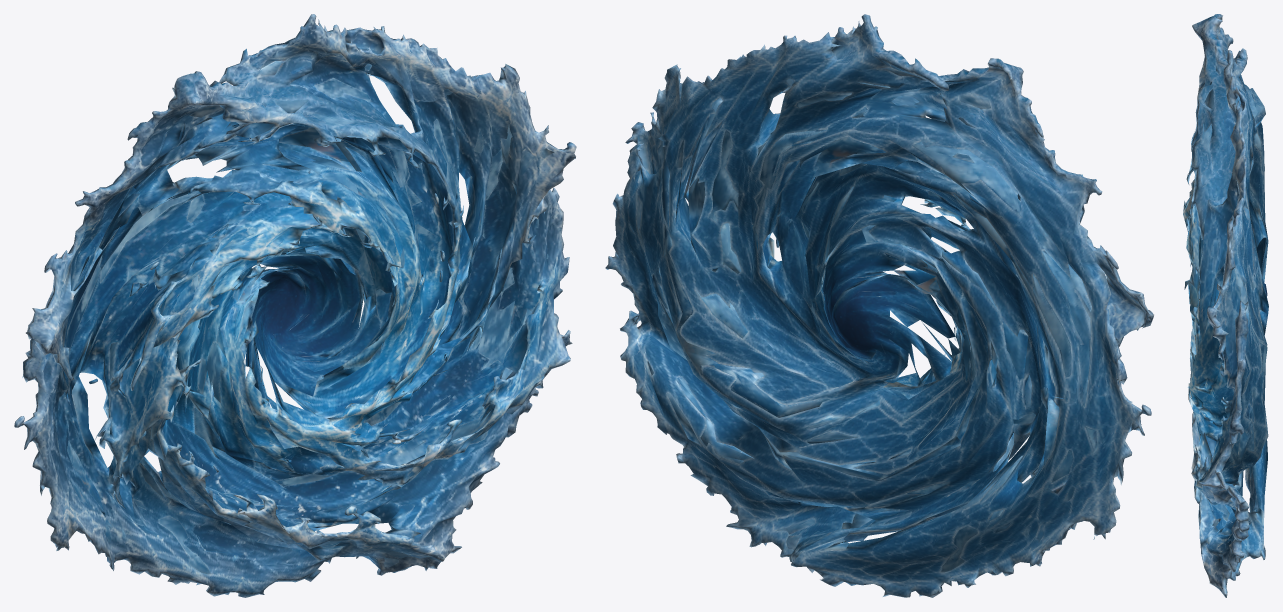
The model's file is fx-whirl.glb.
3 views of the same model, side by side, from view 1: azimuth 30°, elevation 25°; view 2: azimuth 150°, elevation 25°; view 3: azimuth 270°, elevation 25° (orthographic). The views are drawn at different scales.
Size of the model in its own units: 0.9463 by 0.9448 by 0.1479.
1 material, 1 textured.
